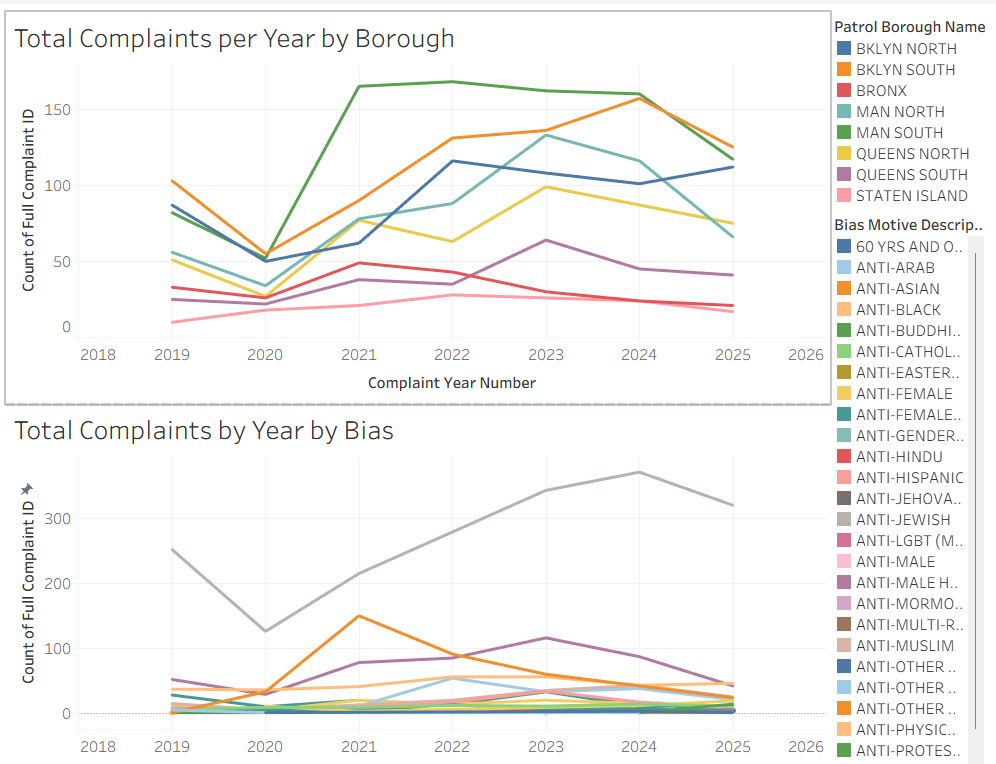

The page's visual inventory and layout, read from the dashboard file:
{"tool":"tableau","page":{"name":"Question 1","canvas":[1000,800],"ordinal":0},"visuals":[{"type":"worksheet","title":"Total Complaints per Year by Borough","mark":"Line","rows":["Full Complaint ID"],"cols":["Complaint Year Number"],"box":[8,8,824,392]},{"type":"legend","title":"Total Complaints per Year by Borough","param":"[federated.1eh2x4b0ks41th1dv7gnv00tqhs9].[none:Patrol Borough Name:nk]","box":[832,8,160,198]},{"type":"legend","title":"Total Complaints by Year by Bias","param":"[federated.1eh2x4b0ks41th1dv7gnv00tqhs9].[none:Bias Motive Description:nk]","box":[832,206,160,586]},{"type":"worksheet","title":"Total Complaints by Year by Bias","mark":"Automatic","rows":["Full Complaint ID"],"cols":["Complaint Year Number"],"box":[8,400,824,392]}]}

Visuals, with their boxes on the page's 1000x800 design canvas (x1, y1, x2, y2). These are canvas units, not pixel positions in the 996x764 screenshot, which may show the page scaled, cropped or inside an application window:
"Total Complaints per Year by Borough" worksheet (Line marks): select_region(8, 8, 832, 400)
"Total Complaints per Year by Borough" legend: select_region(832, 8, 992, 206)
"Total Complaints by Year by Bias" legend: select_region(832, 206, 992, 792)
"Total Complaints by Year by Bias" worksheet: select_region(8, 400, 832, 792)
